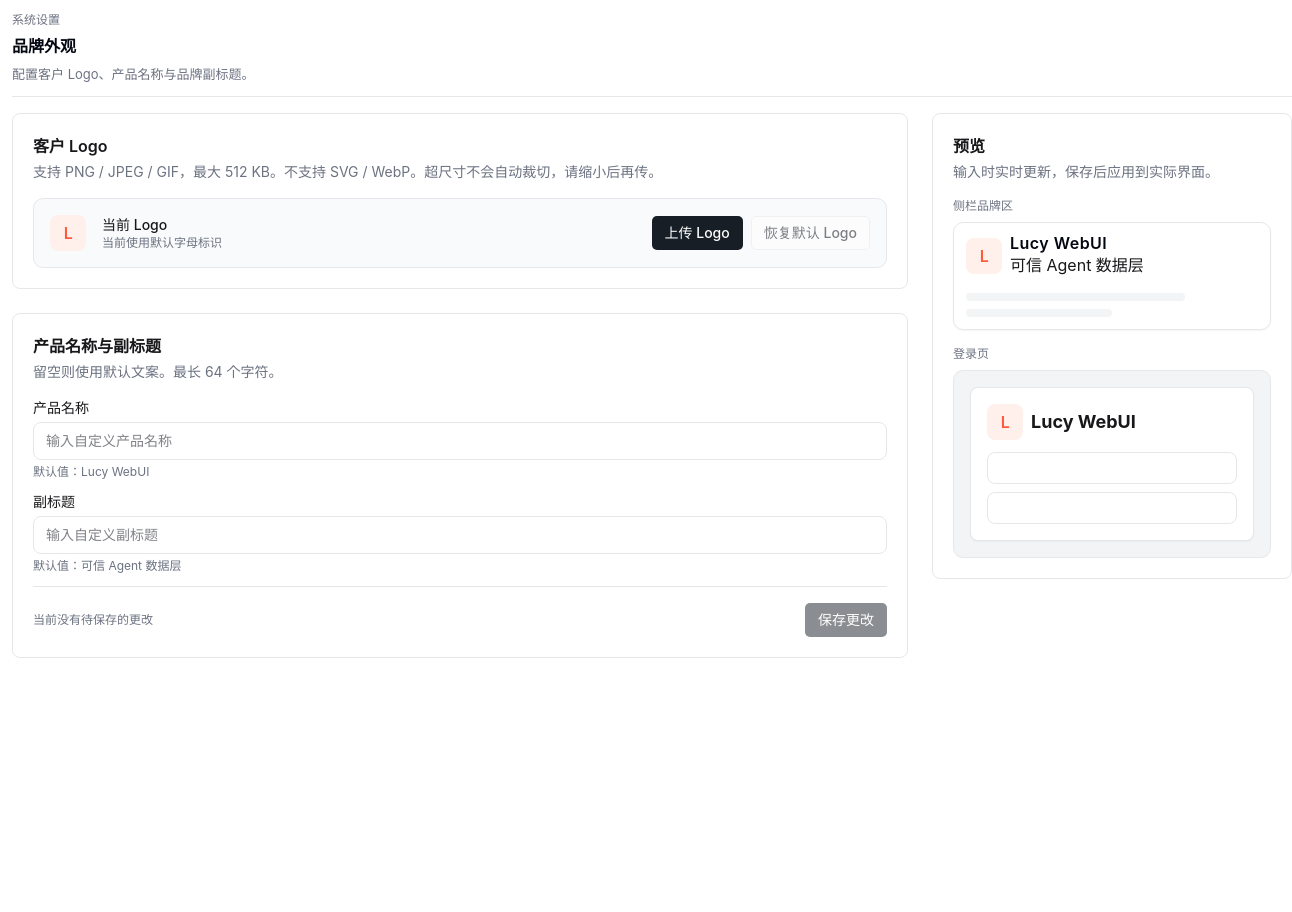
Test: BrandingSettings › enables save only while text overrides are dirty
Expected: the text "当前使用默认字母标识" is shown, [102, 235, 222, 250]
Expected: the button "保存更改" is disabled, [805, 603, 887, 637]
Type "Acme Data" into the field with test id "branding-product-title" at (460, 441), box [33, 422, 887, 460]
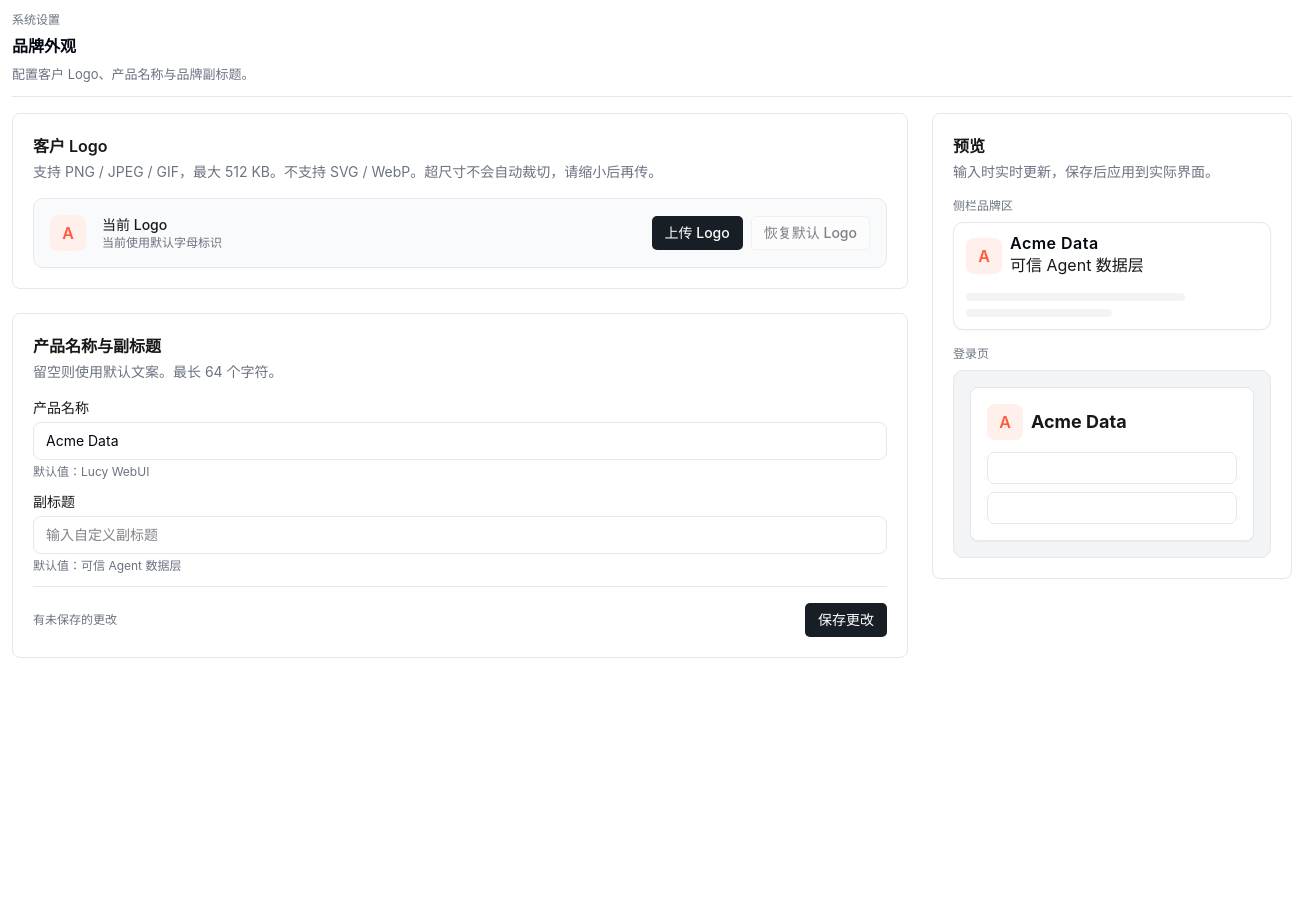
Now the button "保存更改" is enabled, box [805, 603, 887, 637]
Clear the field with test id "branding-product-title" at (460, 441), box [33, 422, 887, 460]
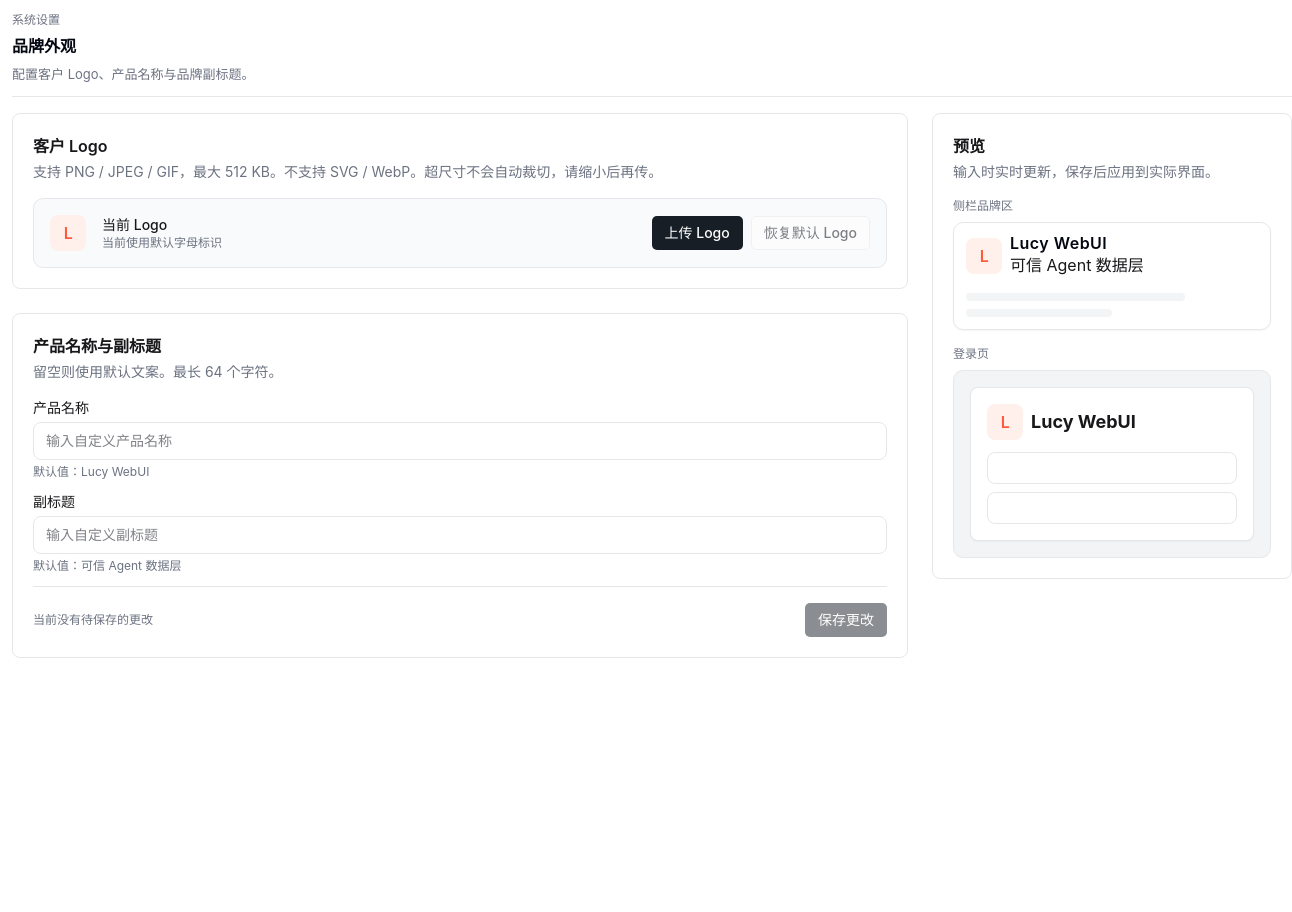
Now the button "保存更改" is disabled, box [805, 603, 887, 637]
